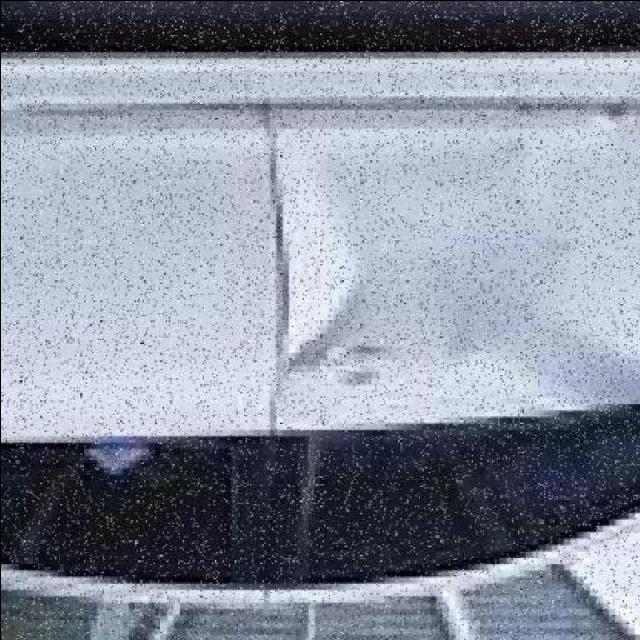doorouter-dent: (280, 101, 640, 417)
